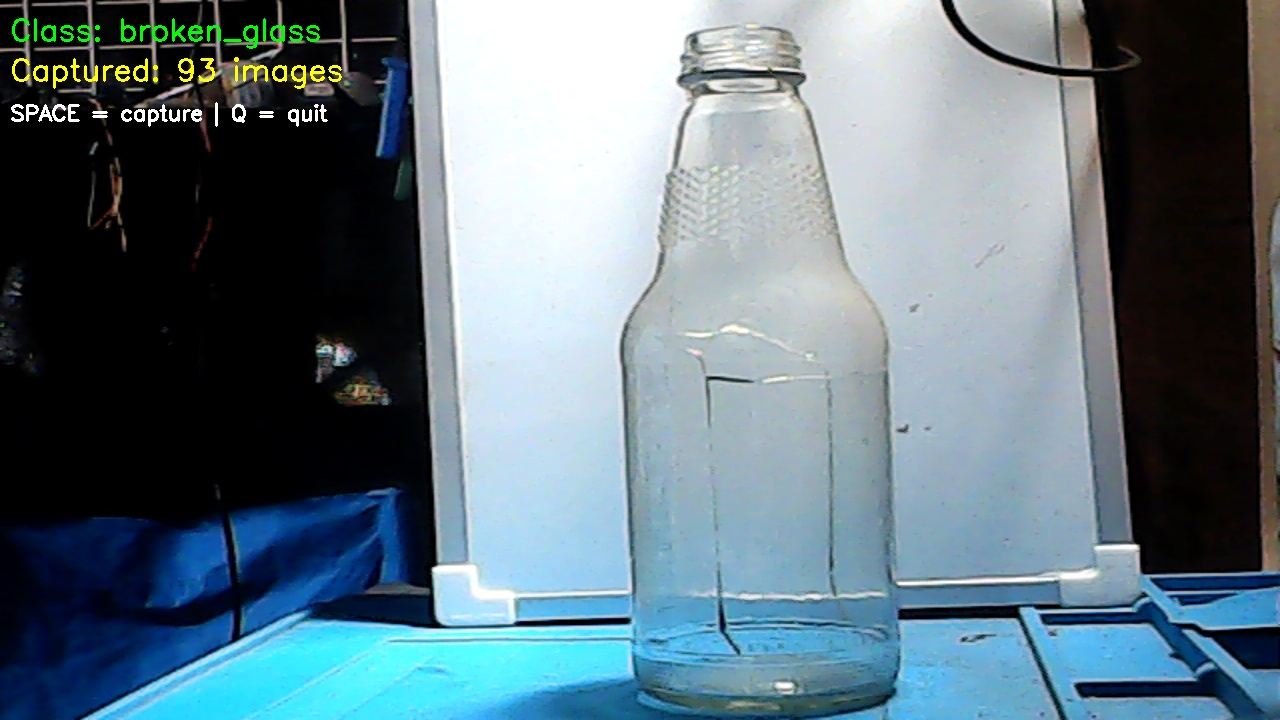broken_glass: (615, 42, 913, 704)
